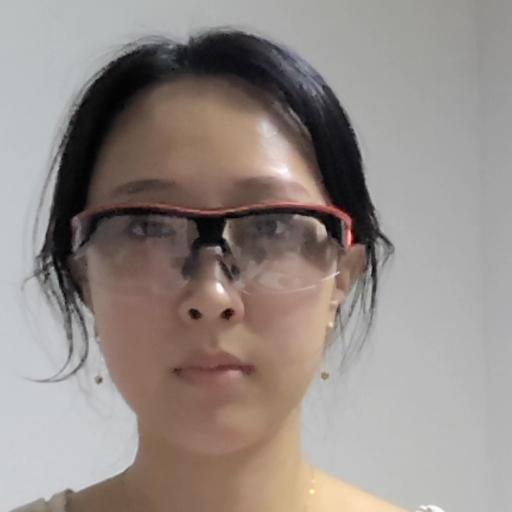glasses: (16, 24, 408, 463)
